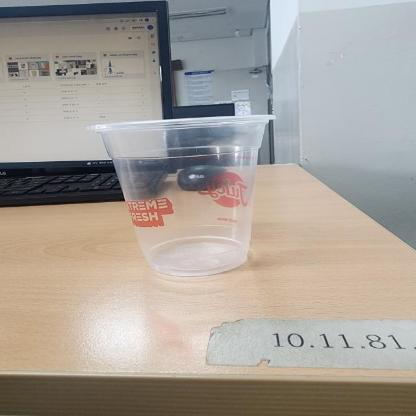Plastic Cup: (87, 112, 279, 276)
